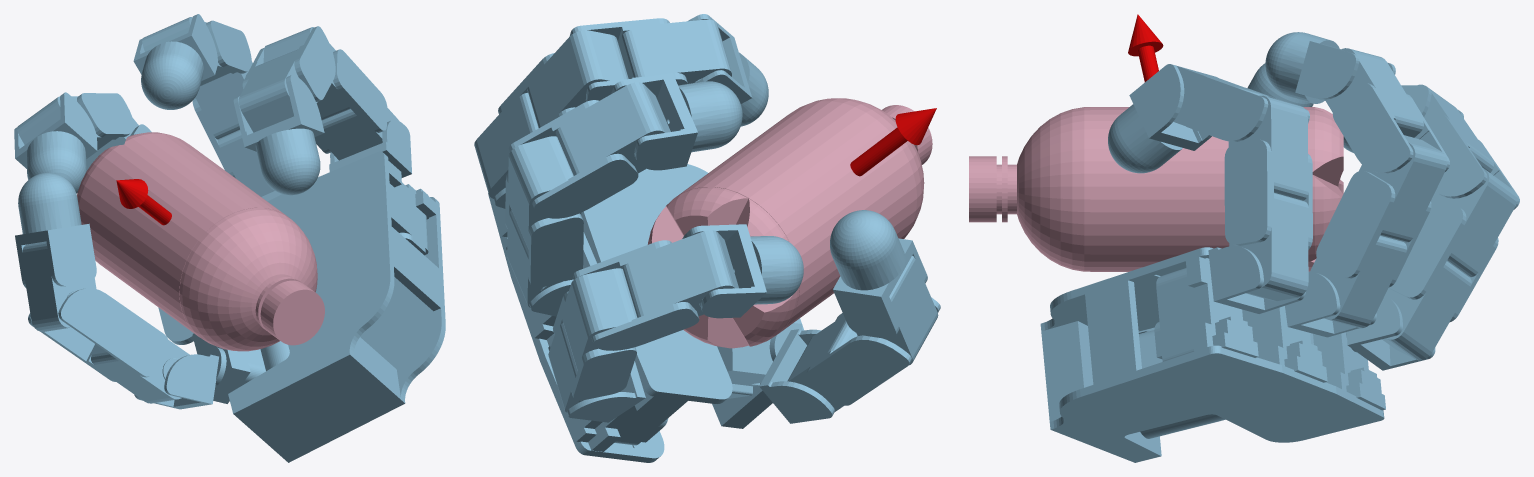
3 views of the same model, side by side, from view 1: azimuth 30°, elevation 25°; view 2: azimuth 150°, elevation 25°; view 3: azimuth 270°, elevation 25° (orthographic). The views are drawn at different scales.
Parts seen in each view (by area): view 1: world, water_bottle.stl; view 2: world, water_bottle.stl; view 3: world, water_bottle.stl.
Part boxes in pixels (<box>): world: <box>14,14,445,462</box>; water_bottle.stl: <box>77,132,324,351</box>; world: <box>474,14,940,462</box>; water_bottle.stl: <box>647,98,932,348</box>; world: <box>1040,14,1519,462</box>; water_bottle.stl: <box>969,107,1343,271</box>.
Bounding box in the file's own units: 0.1804 × 0.1662 × 0.2007.
